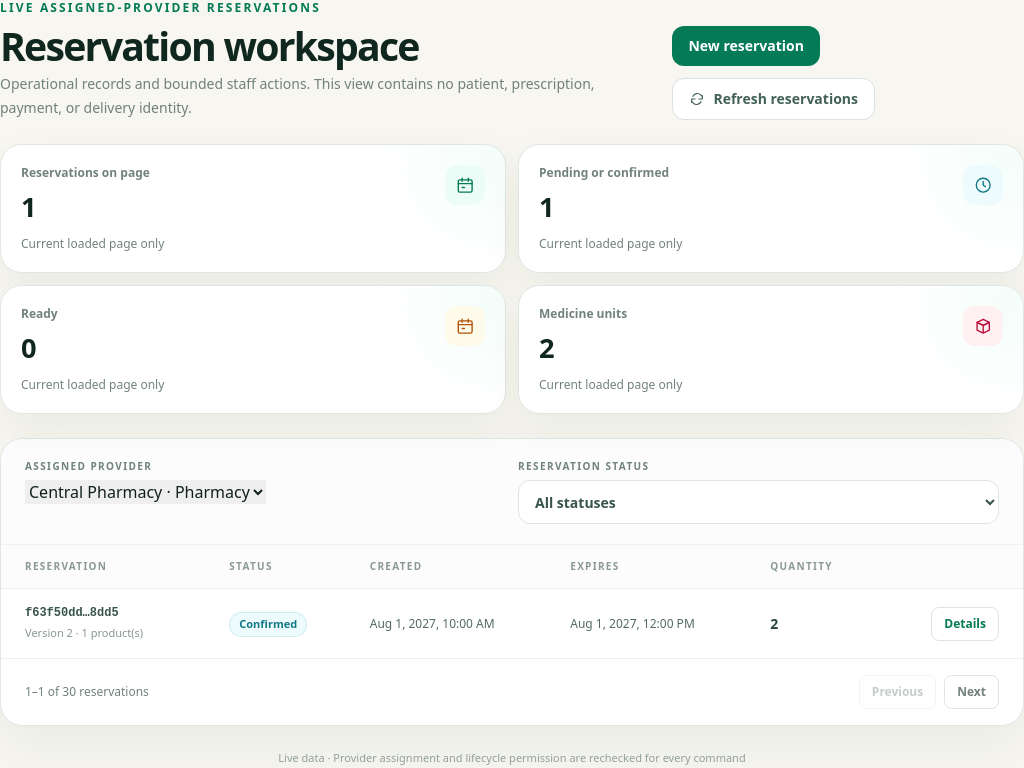
Test case: ReservationWorkspace live integration › keeps confirmation open on a bounded lifecycle conflict
Click the button "Details" at {"x": 965, "y": 624}, box [931,607,999,641]
(page scrolled)
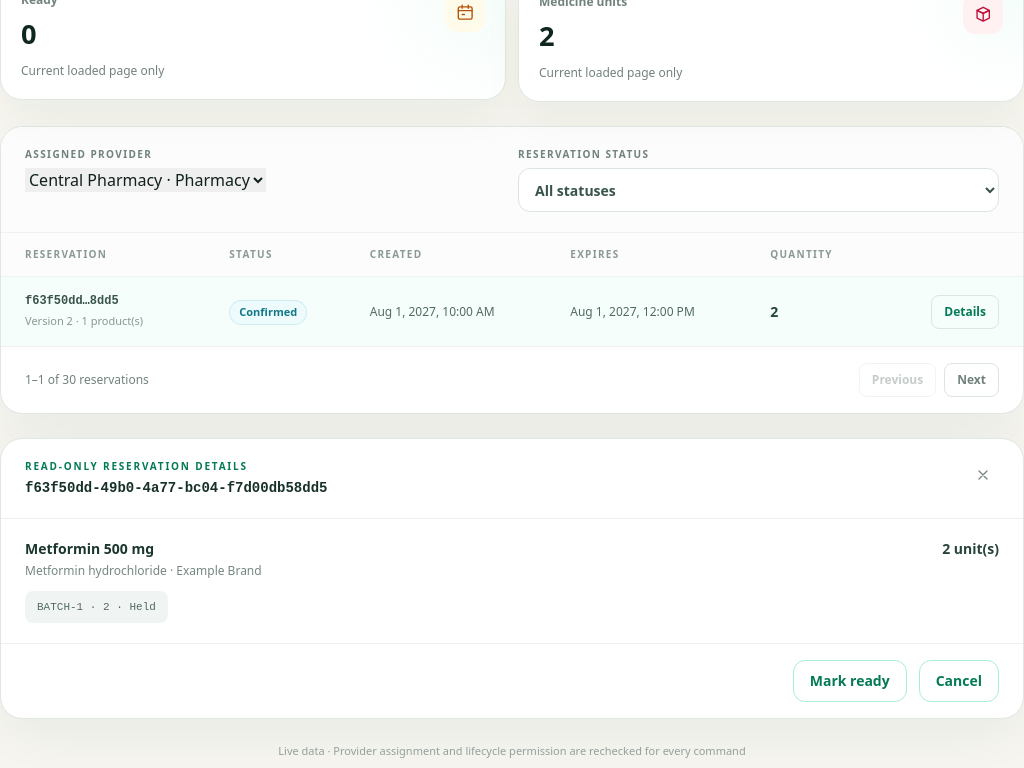
Click the button "Mark ready" at {"x": 850, "y": 681}, box [793,660,907,702]
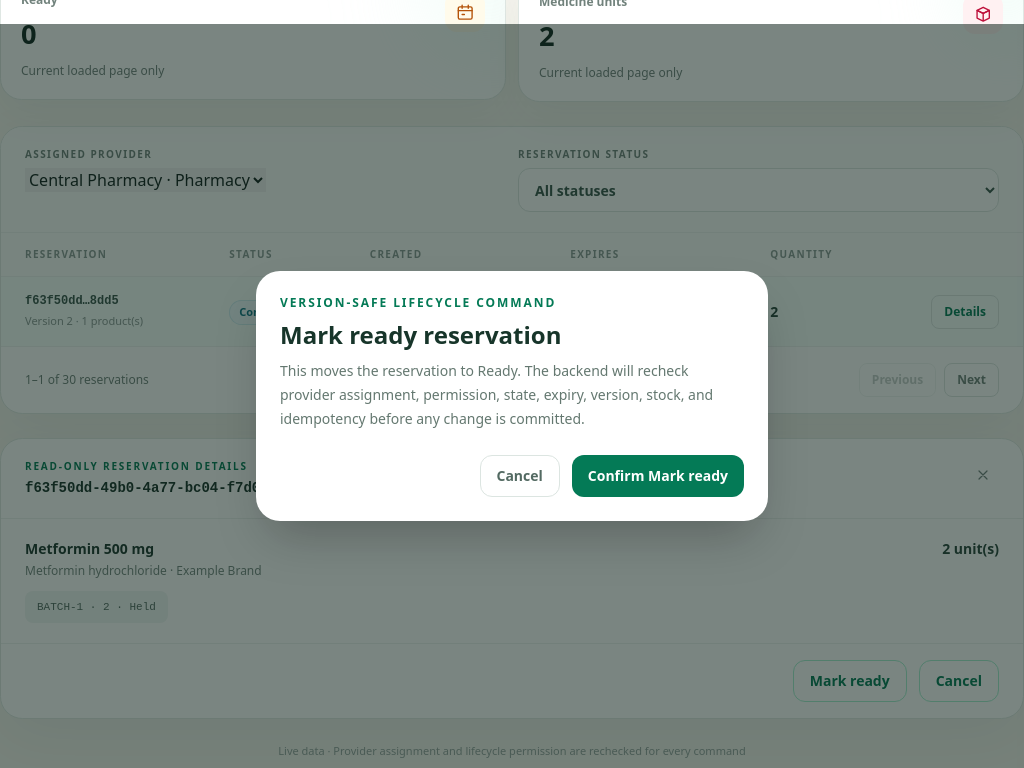
Click the button "Confirm Mark ready" at {"x": 658, "y": 476}, box [572,455,744,497]
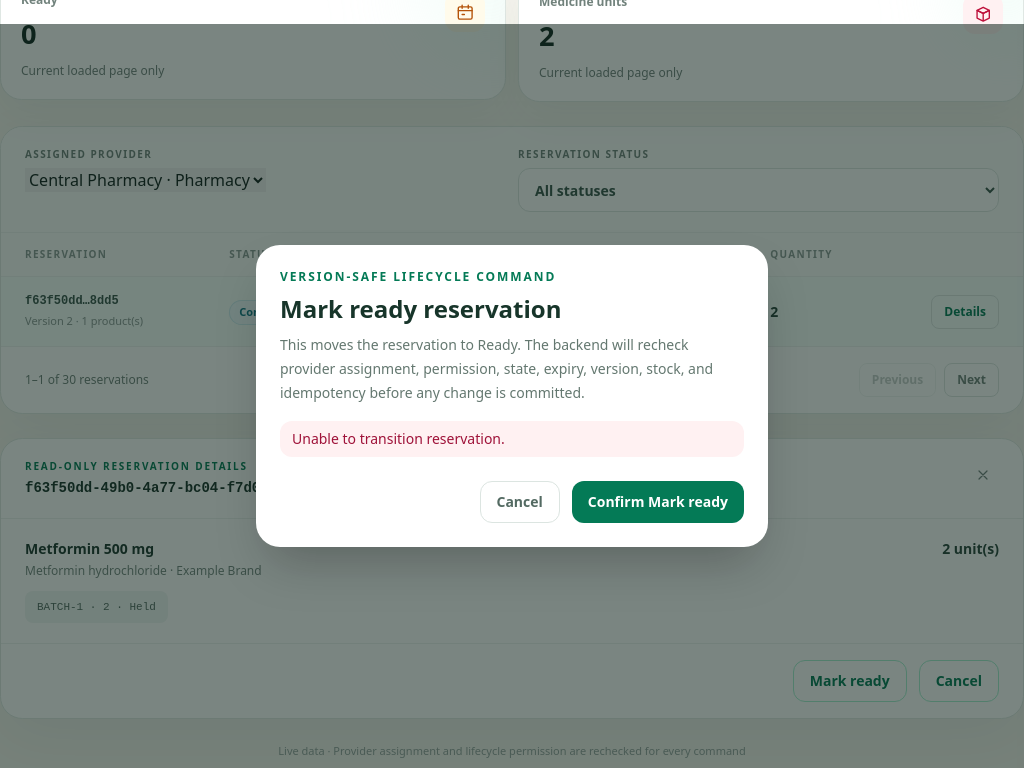
Check: the dialog is shown
Check: the message shows "Unable to transition reservation", box [292,429,505,448]
